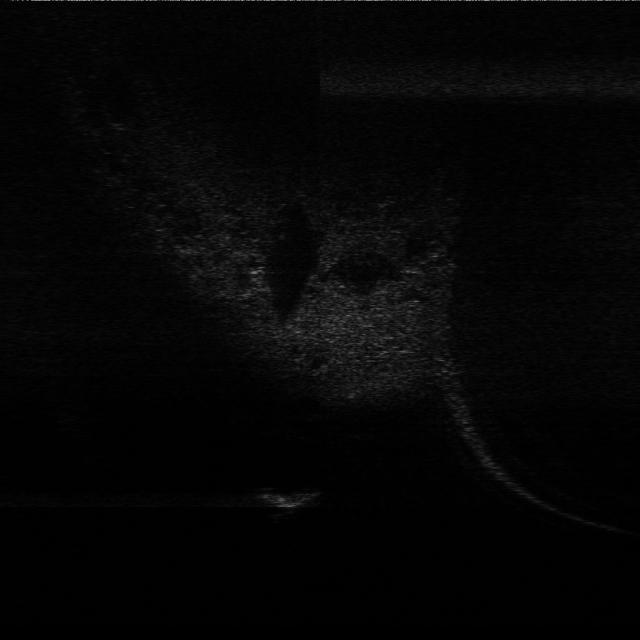square cage: (254, 472, 328, 523)
